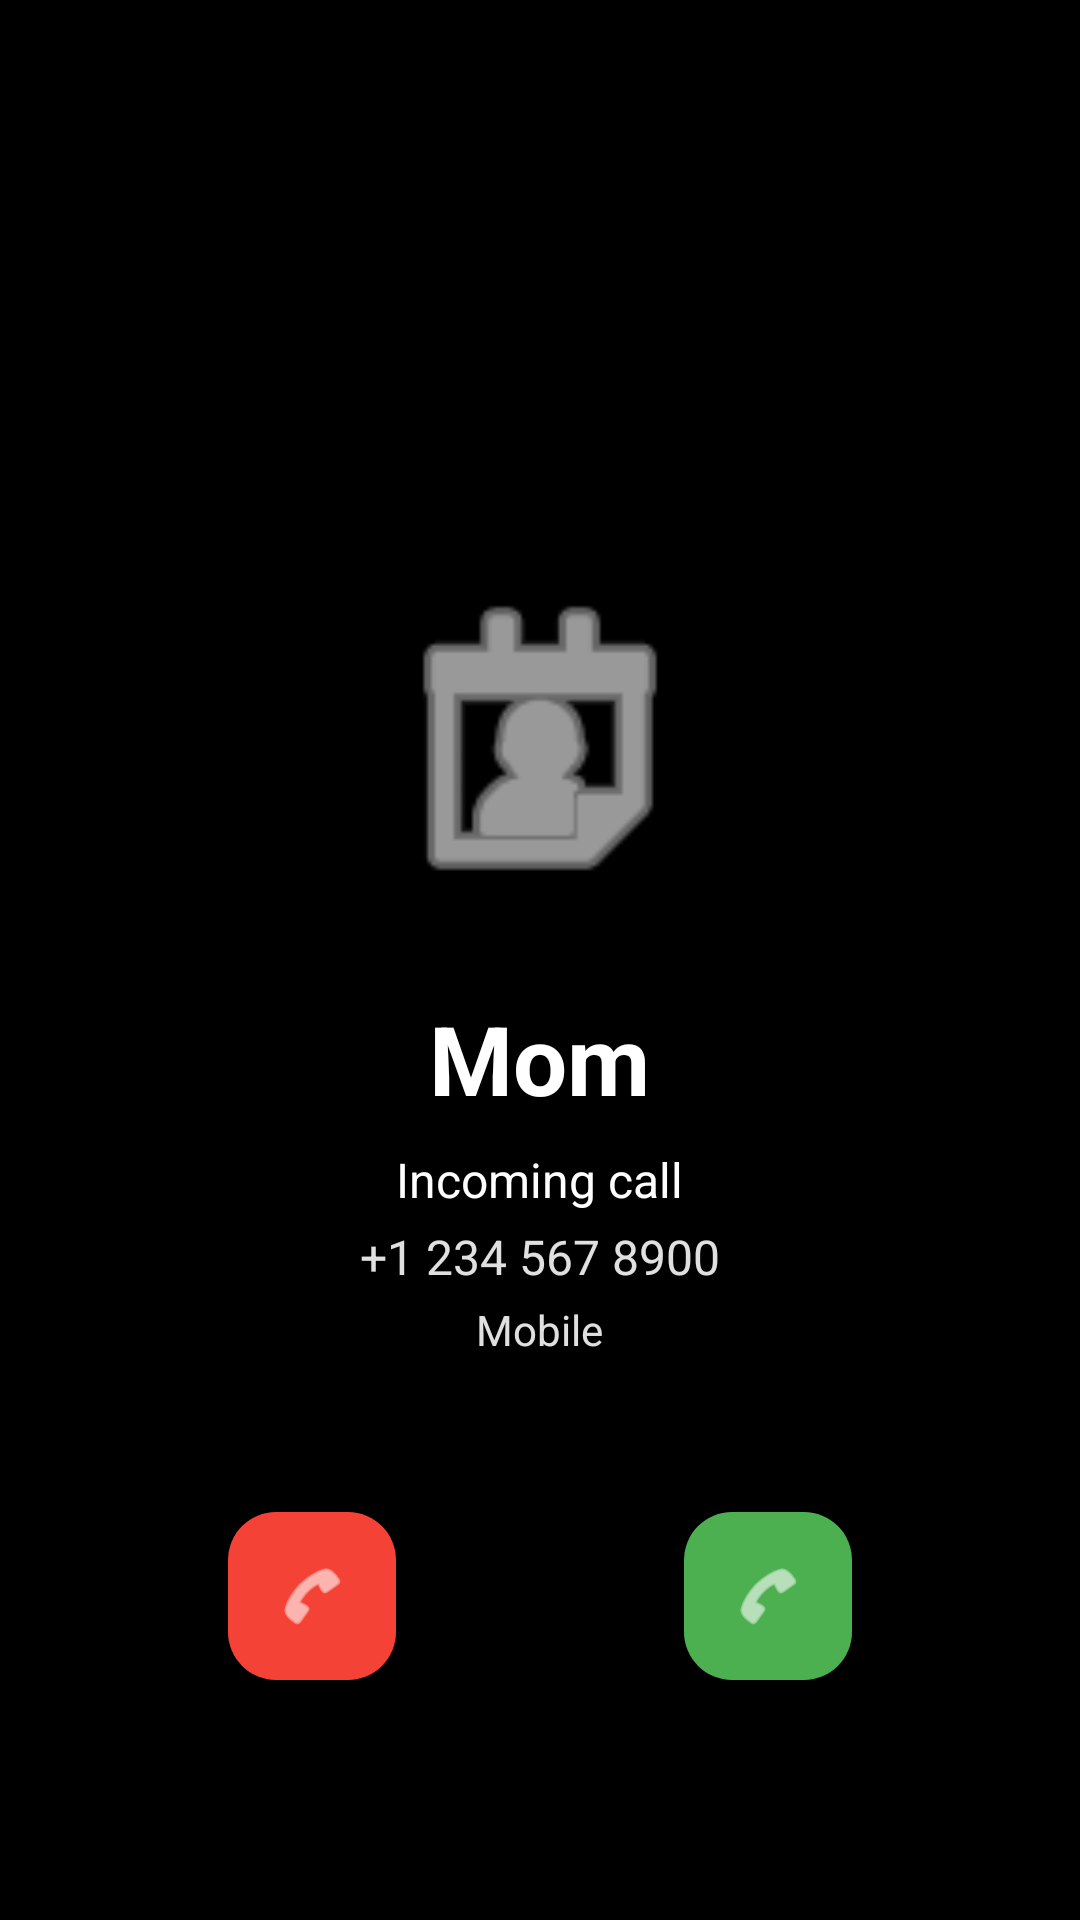

Icons on this 1080×1920 Android screen, each with the point to tap as (x,y):
Accept: (768,1596)
Caller: (540,738)
Decline: (312,1596)
